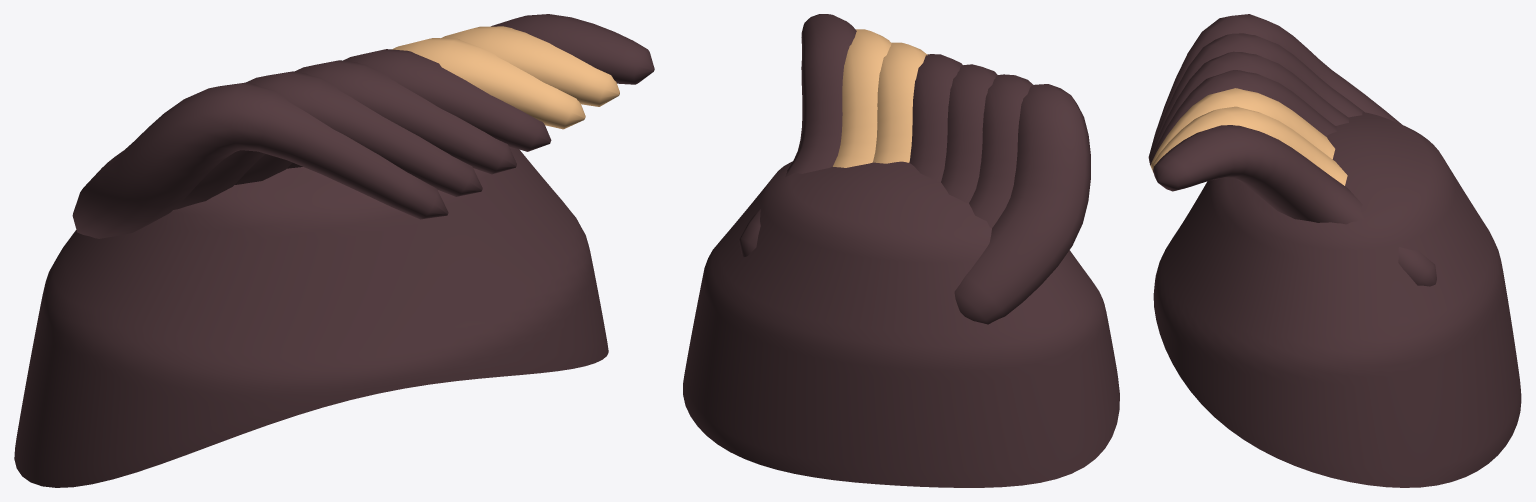
The model's file is studio_quiff_default.glb.
3 views of the same model, side by side, from view 1: azimuth 30°, elevation 25°; view 2: azimuth 150°, elevation 25°; view 3: azimuth 270°, elevation 25° (orthographic). The views are drawn at different scales.
Visible parts, largest first — view 1: quiff; view 2: quiff; view 3: quiff.
Boxes of the visible parts, x1,y1,x2,y2 form: quiff: (14,14,654,487); quiff: (683,14,1119,487); quiff: (1148,14,1521,487).
Size of the model in its own units: 0.476 by 0.3633 by 0.3633.
